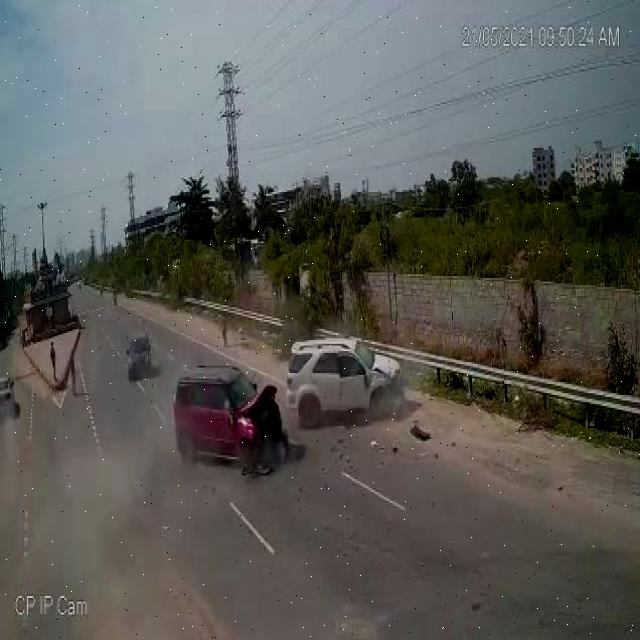accident: (169, 325, 411, 483)
